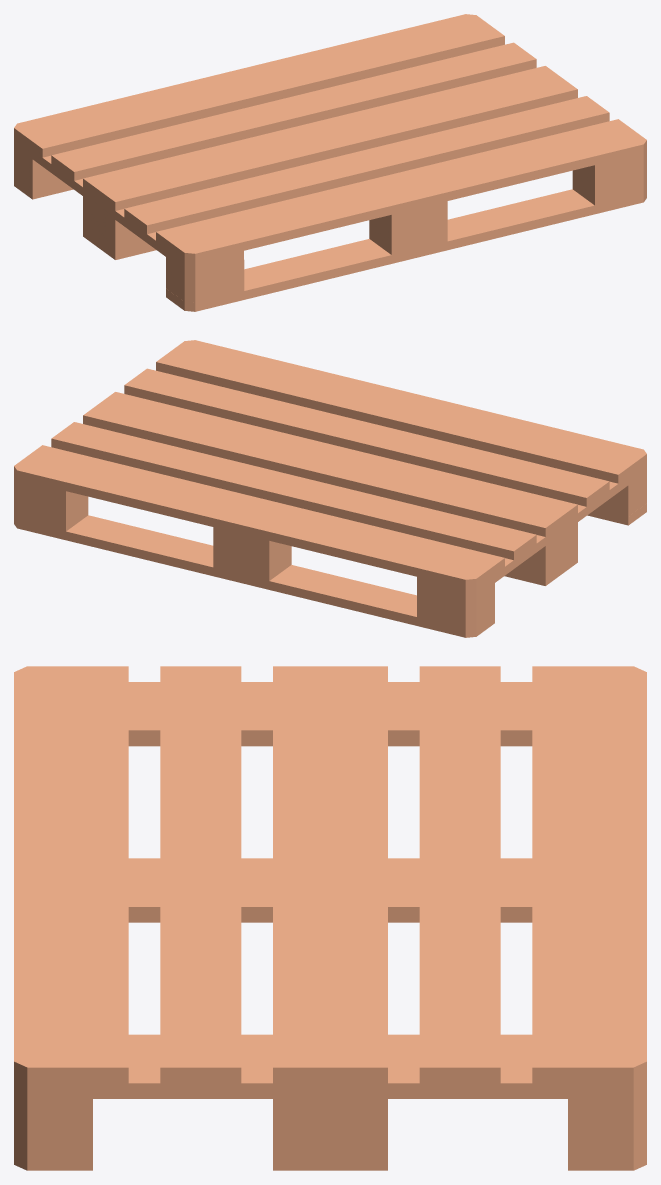
The model's file is SM_Build_Europalette.fbx.
3 renders of one model, top to bottom at view 1: azimuth 30°, elevation 25°; view 2: azimuth 150°, elevation 25°; view 3: azimuth 270°, elevation 25°, orthographic. The views are drawn at different scales.
Visible parts, largest first — view 1: Europalette; view 2: Europalette; view 3: Europalette.
Part boxes in pixels (x1,y1,x2,y2): Europalette: (14, 14, 646, 311); Europalette: (14, 340, 646, 637); Europalette: (14, 666, 646, 1170).
Bounding box in the file's own units: 1.2 × 0.144 × 0.8.
